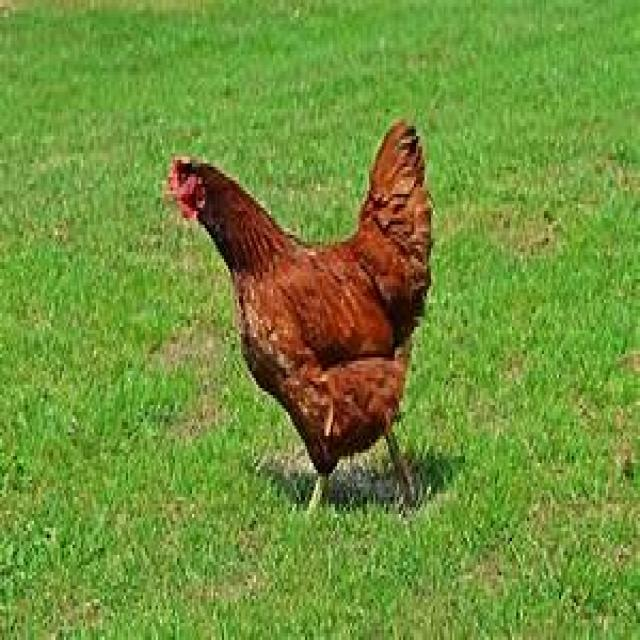hen: (170, 122, 431, 502)
